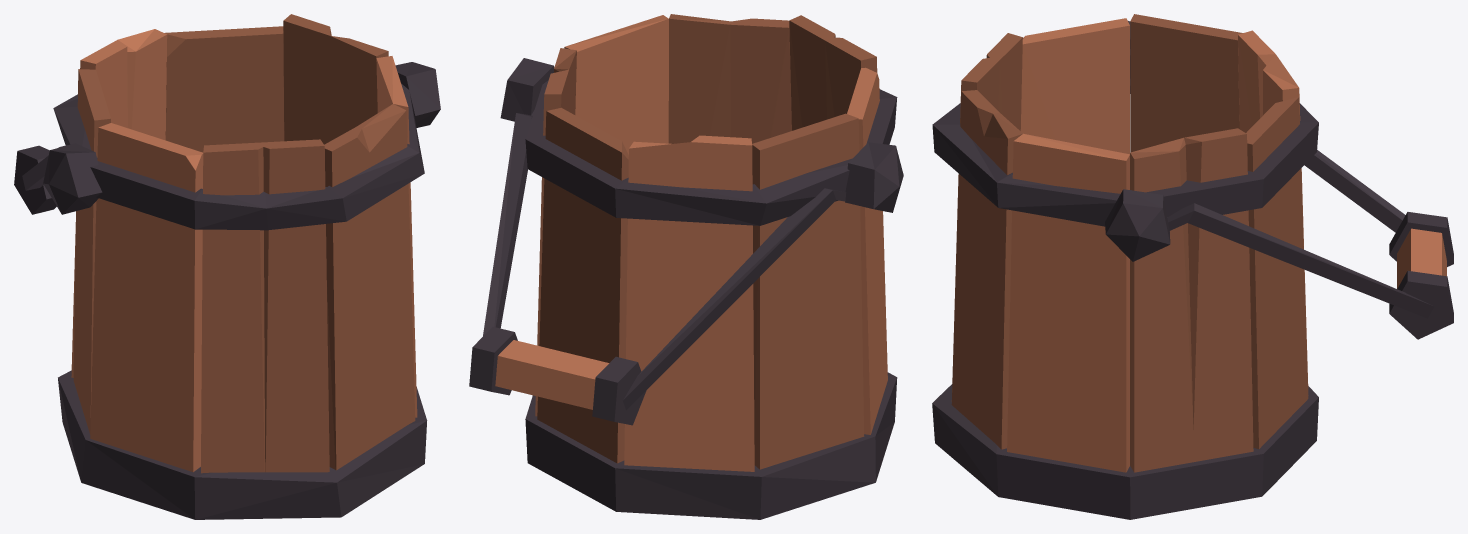
Rendered from Bucket.fbx.
3 views of the same model, side by side, from view 1: azimuth 30°, elevation 25°; view 2: azimuth 150°, elevation 25°; view 3: azimuth 270°, elevation 25° (orthographic).
Visible parts, largest first — view 1: Bucket; view 2: Bucket; view 3: Bucket.
Boxes of the visible parts, x1,y1,x2,y2 form: Bucket: (14, 14, 440, 519); Bucket: (469, 14, 903, 519); Bucket: (932, 14, 1453, 519).
Bounding box in the file's own units: 0.5545 × 0.4992 × 0.6494.
